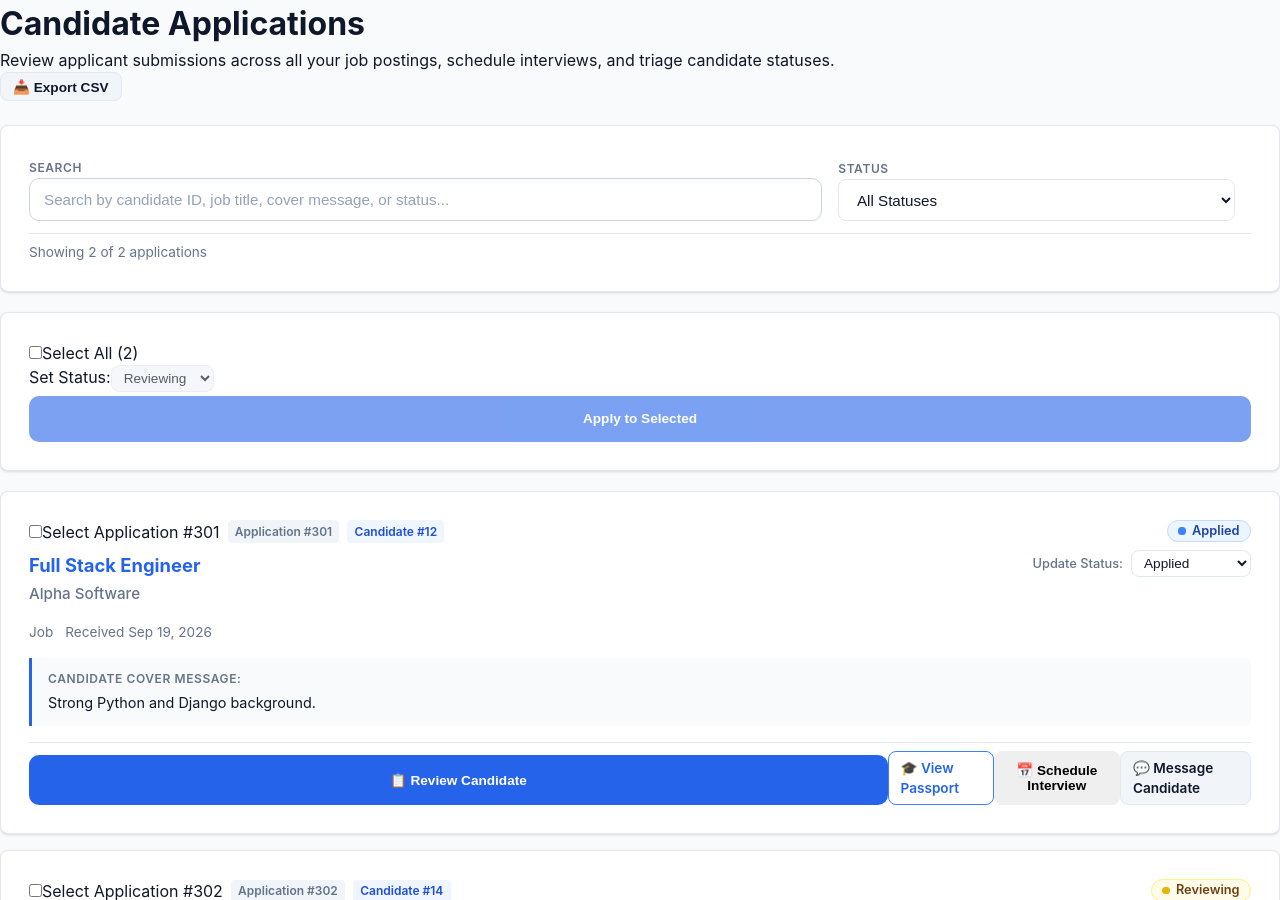
Scenario: RecruiterApplicationsPage › filters candidate applications by status client-side
The width and height of the screenshot is (1280, 900).
Check: the text "Application #301" is shown, box [228,520,339,543]
Select "Reviewing" in the dropdown named "Filter by application status" at (1037, 200), box [838,179,1235,221]
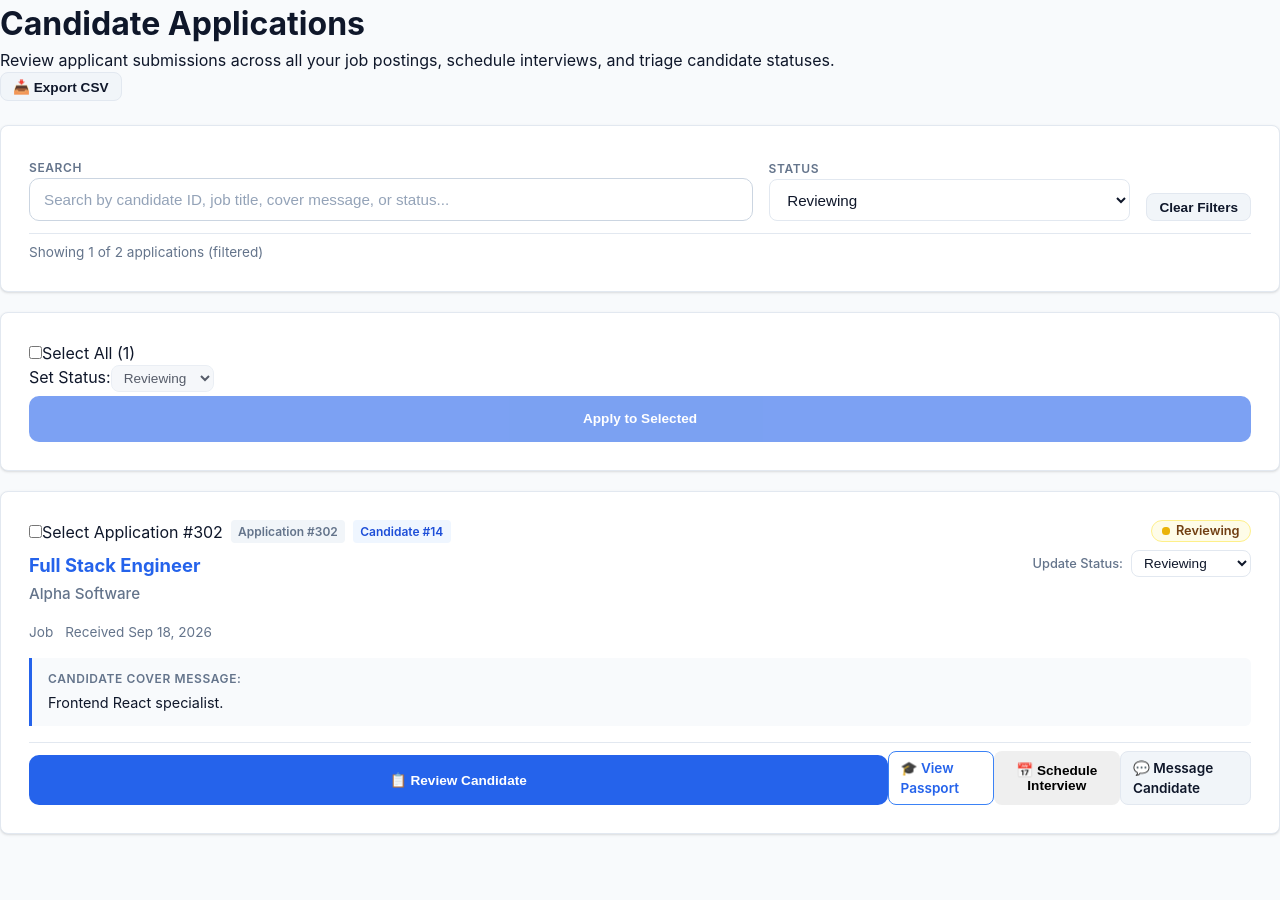
Check: the text "Application #302" is shown, box [231,520,345,543]
Check: the text "Application #301" is gone
